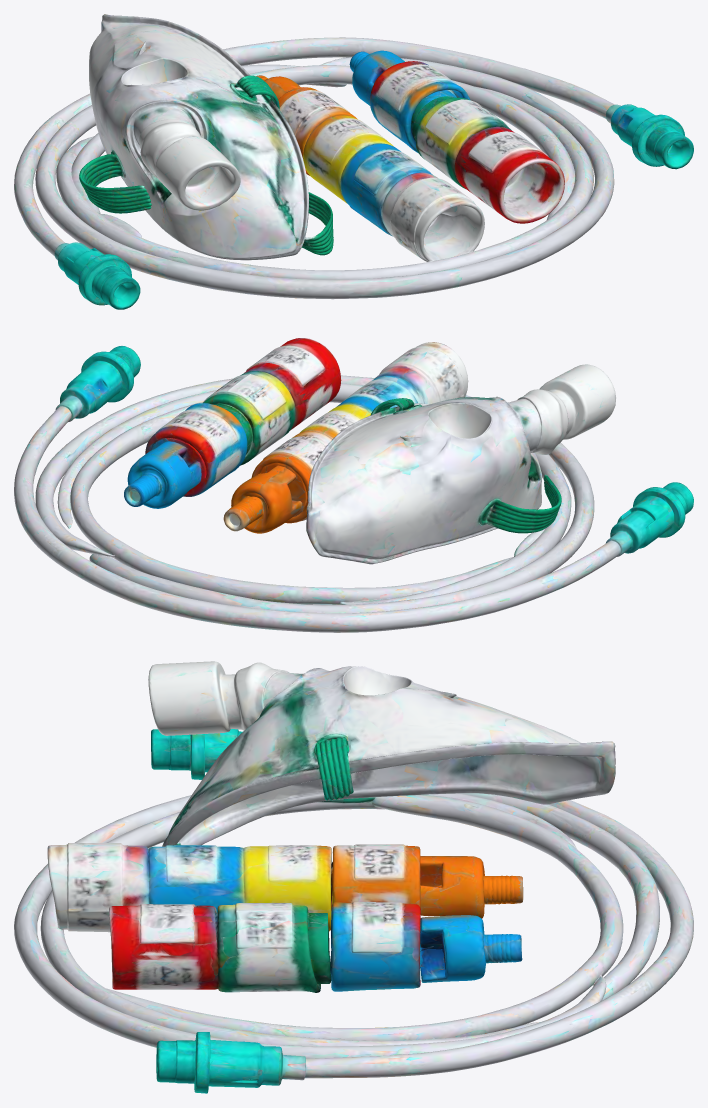
Rendered from O2KIT.glb.
The picture shows the model from 3 angles, top to bottom: view 1: azimuth 30°, elevation 25°; view 2: azimuth 150°, elevation 25°; view 3: azimuth 270°, elevation 25°; orthographic projection. The views are drawn at different scales.
Bounding box in the file's own units: 1.9 × 0.4536 × 1.59.
1 material, 1 textured.
